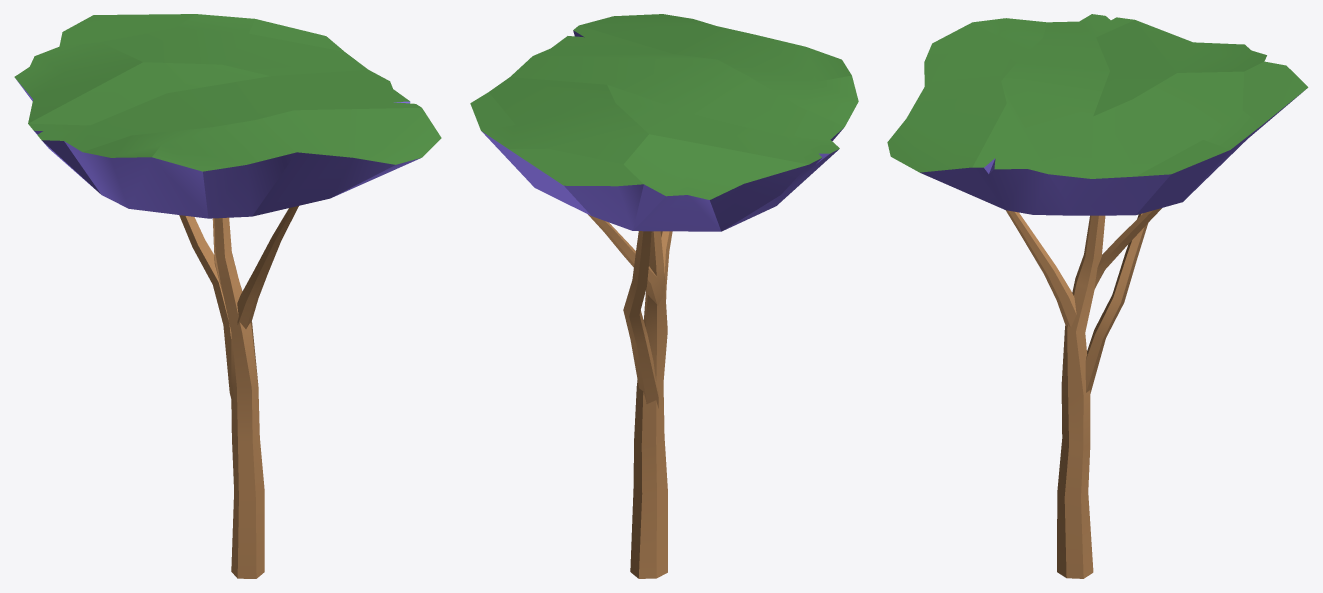
Rendered from tree_B_canopy_B.fbx.
3 views of the same model, side by side, from view 1: azimuth 30°, elevation 25°; view 2: azimuth 150°, elevation 25°; view 3: azimuth 270°, elevation 25° (orthographic). The views are drawn at different scales.
Parts seen in each view (by area): view 1: tree_B_canopy_B, tree_B_canopy_B_trunks_A, tree_B_canopy_B_trunks_D, tree_B_canopy_B_trunks_B; view 2: tree_B_canopy_B, tree_B_canopy_B_trunks_A, tree_B_canopy_B_trunks_D, tree_B_canopy_B_trunk_C; view 3: tree_B_canopy_B, tree_B_canopy_B_trunks_A, tree_B_canopy_B_trunks_D, tree_B_canopy_B_trunks_B, tree_B_canopy_B_trunk_C.
Boxes of the visible parts, x1,y1,x2,y2 form: tree_B_canopy_B: [14, 14, 441, 218]; tree_B_canopy_B_trunks_A: [214, 217, 264, 578]; tree_B_canopy_B_trunks_D: [179, 215, 233, 405]; tree_B_canopy_B_trunks_B: [237, 206, 298, 328]; tree_B_canopy_B: [470, 14, 858, 231]; tree_B_canopy_B_trunks_A: [630, 231, 667, 578]; tree_B_canopy_B_trunks_D: [623, 231, 659, 408]; tree_B_canopy_B_trunk_C: [588, 214, 663, 305]; tree_B_canopy_B: [887, 14, 1308, 215]; tree_B_canopy_B_trunks_A: [1057, 215, 1105, 578]; tree_B_canopy_B_trunks_D: [1085, 213, 1148, 393]; tree_B_canopy_B_trunks_B: [1006, 210, 1076, 327]; tree_B_canopy_B_trunk_C: [1094, 208, 1161, 288].
Size of the model in its own units: 380 by 543 by 433.
